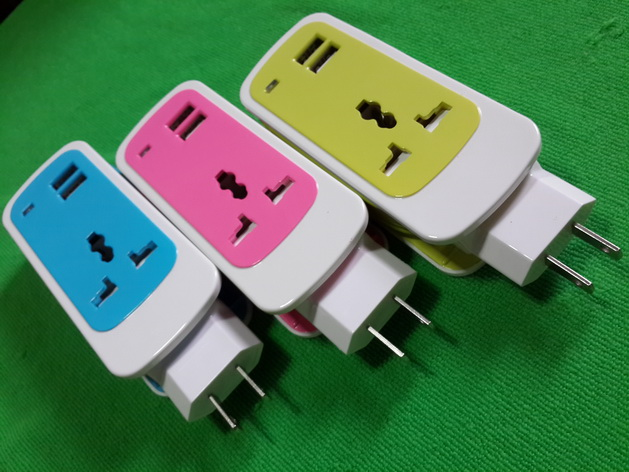Three_eye_plug: (238, 9, 627, 302), (113, 72, 445, 376), (1, 136, 272, 433)
